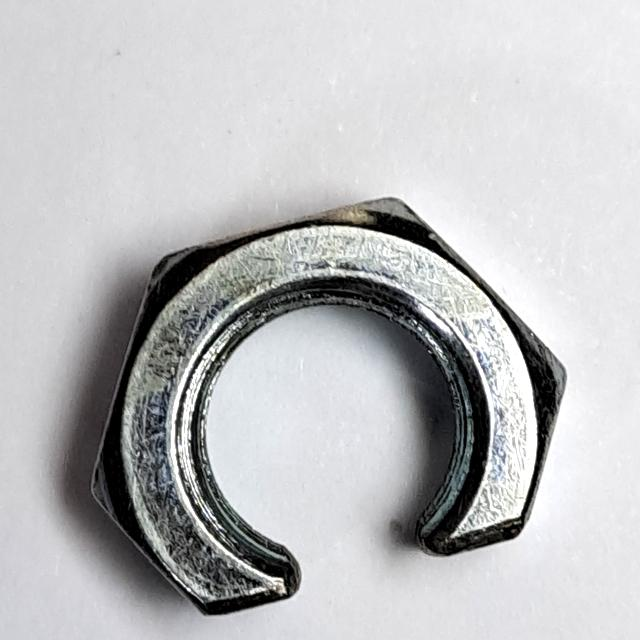Fracture: (77, 188, 574, 624)
